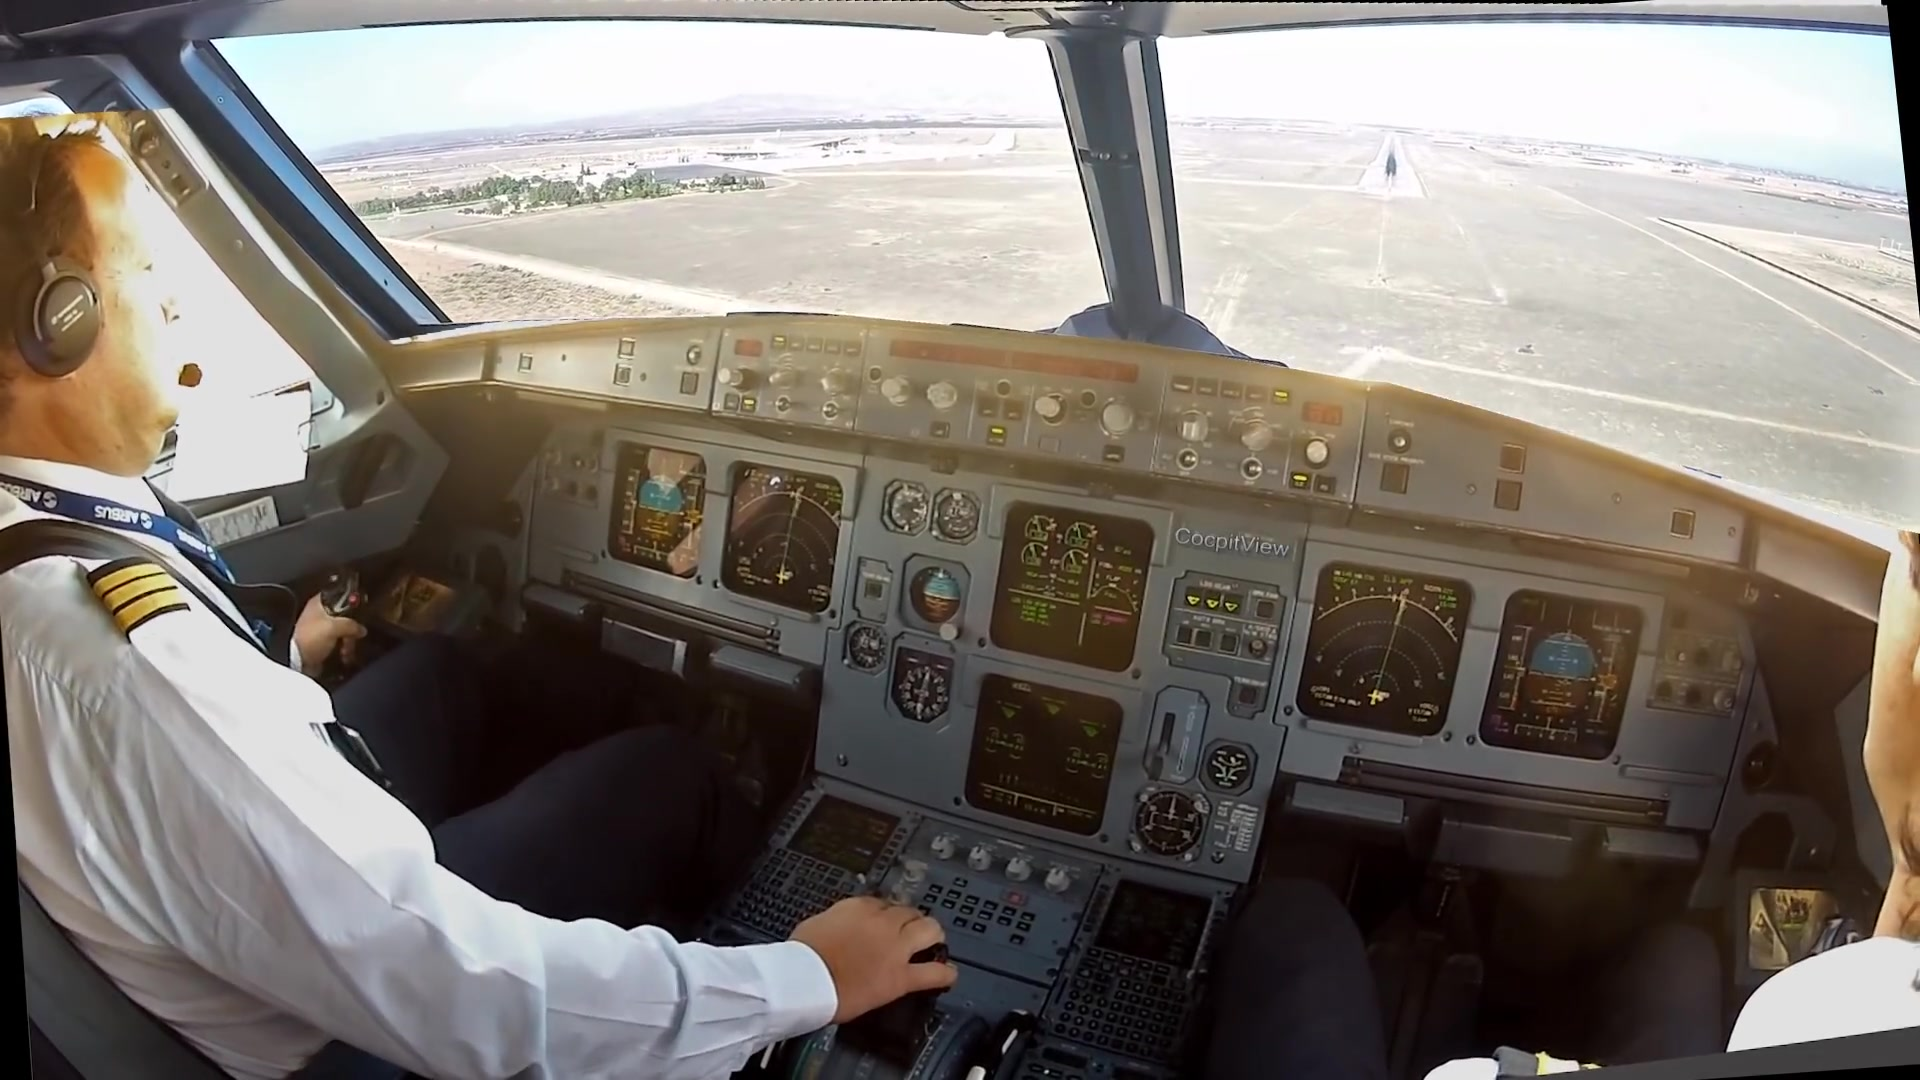runway: (1358, 135, 1424, 200)
